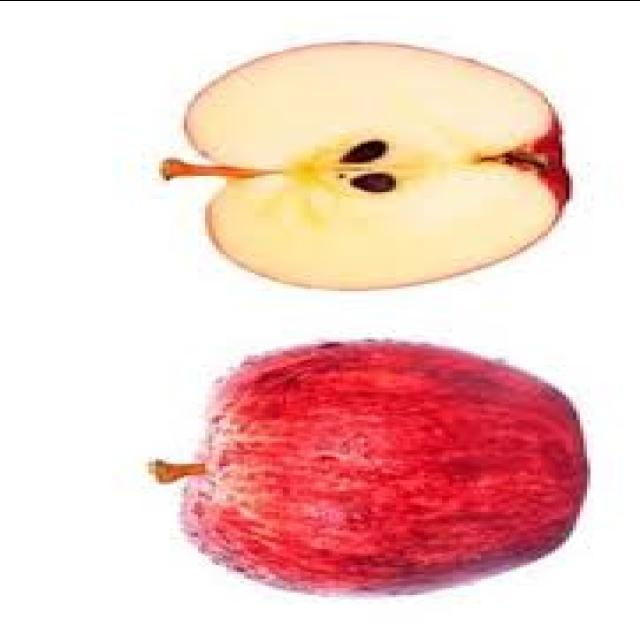apple: (152, 333, 612, 601)
